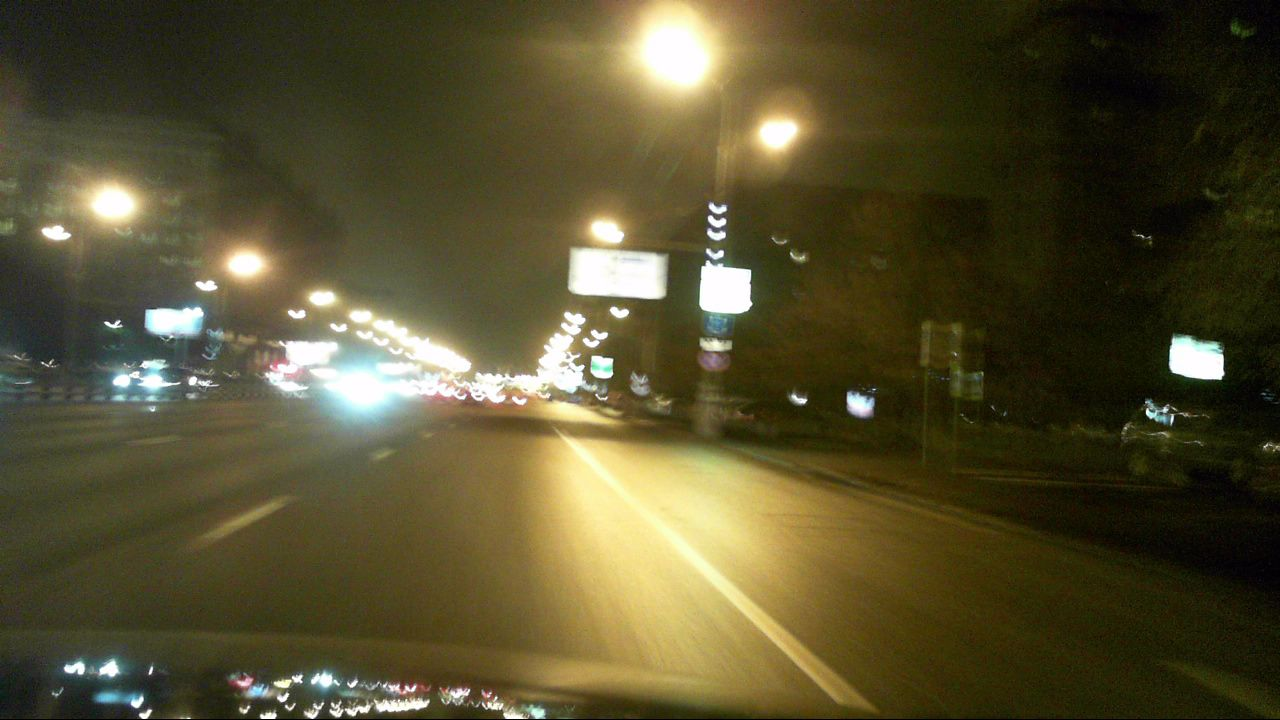No Parking: (707, 351, 730, 371)
